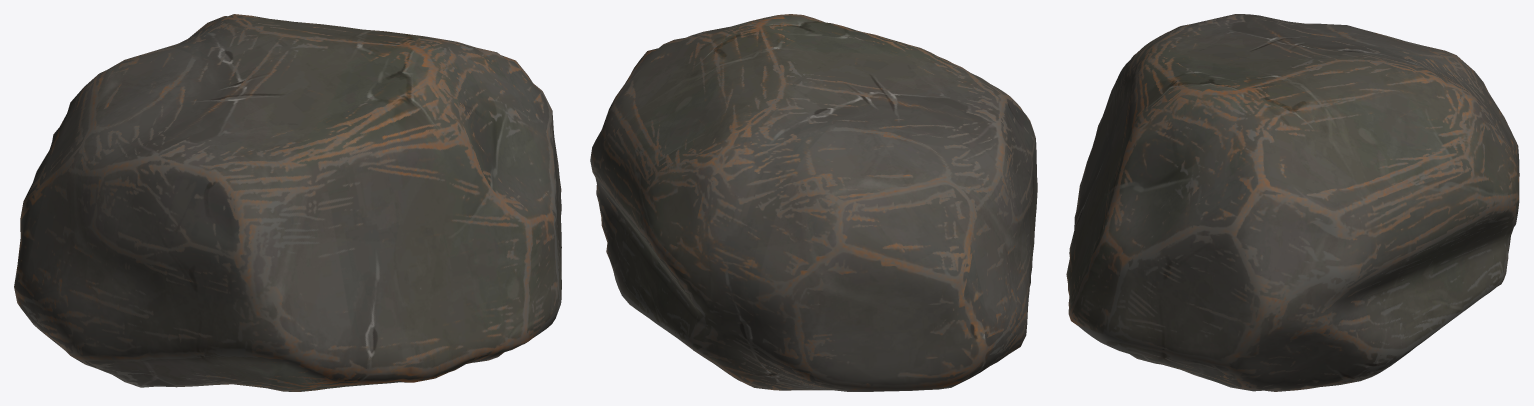
The model's file is RockFBX.fbx.
3 renders of one model, left to right at view 1: azimuth 30°, elevation 25°; view 2: azimuth 150°, elevation 25°; view 3: azimuth 270°, elevation 25°, orthographic. The views are drawn at different scales.
Visible parts, largest first — view 1: Rock; view 2: Rock; view 3: Rock.
Boxes of the visible parts, box(x1,y1,x2,y2) form: Rock: box(14, 14, 561, 391); Rock: box(590, 14, 1037, 391); Rock: box(1066, 14, 1519, 391).
Size of the model in its own units: 2.01 by 1.19 by 1.75.
1 material, 1 textured.
